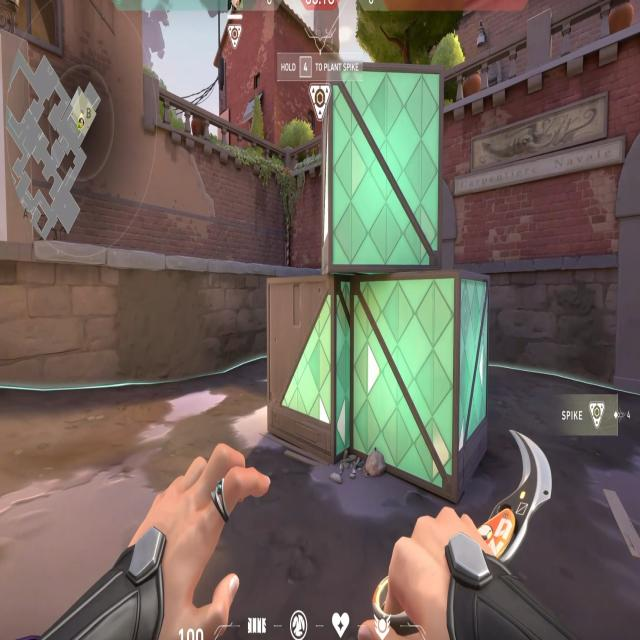B_Site_Box: (243, 22, 518, 510)
